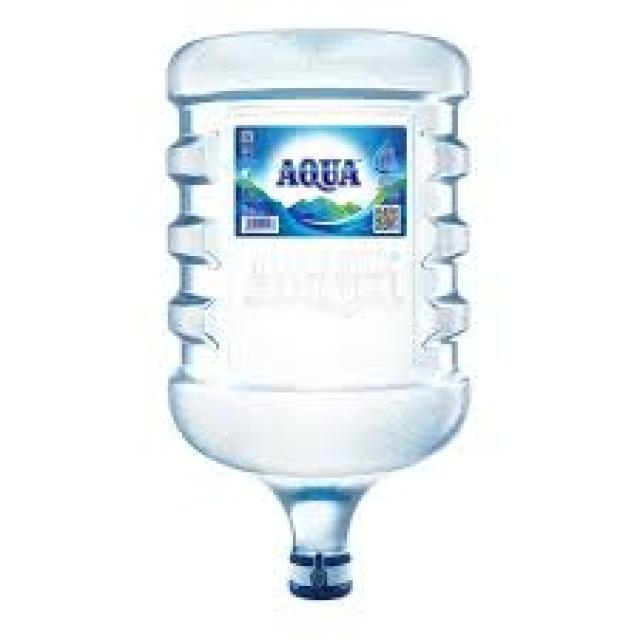Galon: (159, 23, 475, 600)
